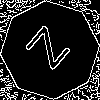Z: (25, 25, 79, 78)
